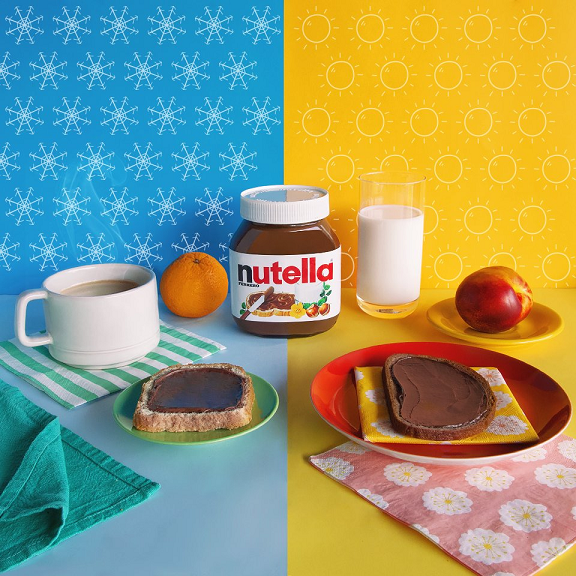nutella: (226, 184, 342, 339)
